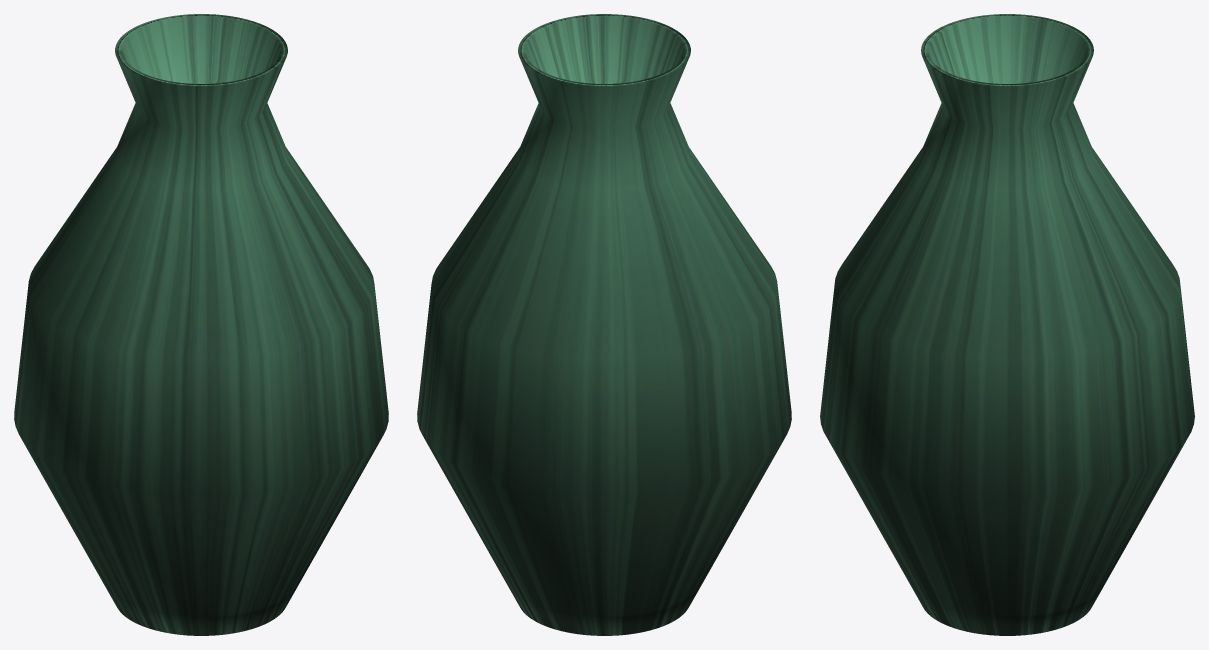
Rendered from vaso-ceramica-esmaltada-verde.glb.
3 renders of one model, left to right at view 1: azimuth 30°, elevation 25°; view 2: azimuth 150°, elevation 25°; view 3: azimuth 270°, elevation 25°, orthographic.
Visible parts, largest first — view 1: vase; view 2: vase; view 3: vase.
Boxes of the visible parts, x1=… form: vase: x1=14, y1=14, x2=388, y2=635; vase: x1=417, y1=14, x2=791, y2=635; vase: x1=820, y1=14, x2=1194, y2=635.
Bounding box in the file's own units: 0.3095 × 0.5 × 0.3095.
1 material, 1 textured.
